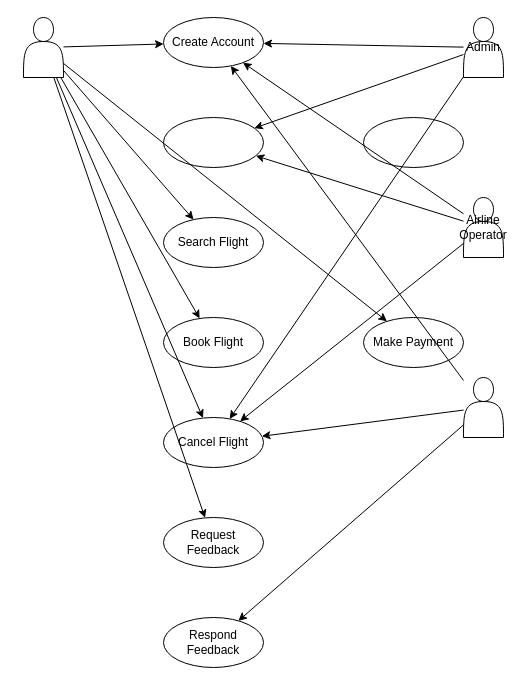
Image size: 524x685. Some labels were removed from this diagram. The shapes that lost their labels are listed below. From the top down, each one's box as (x1, y1, x2, y2) in pixels, then its label:
(22, 16, 64, 78): Customer
(162, 116, 264, 168): Manage System
(362, 116, 464, 168): View Flight Status
(462, 376, 504, 438): Airline Manager
